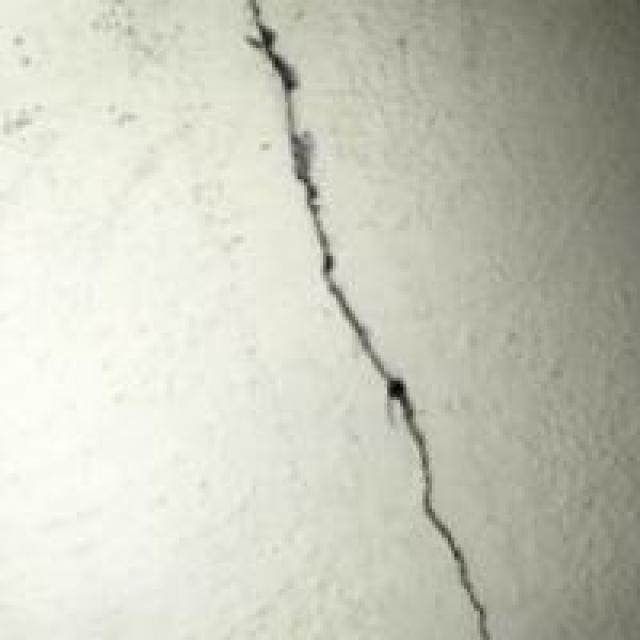crack: (202, 0, 531, 637)
